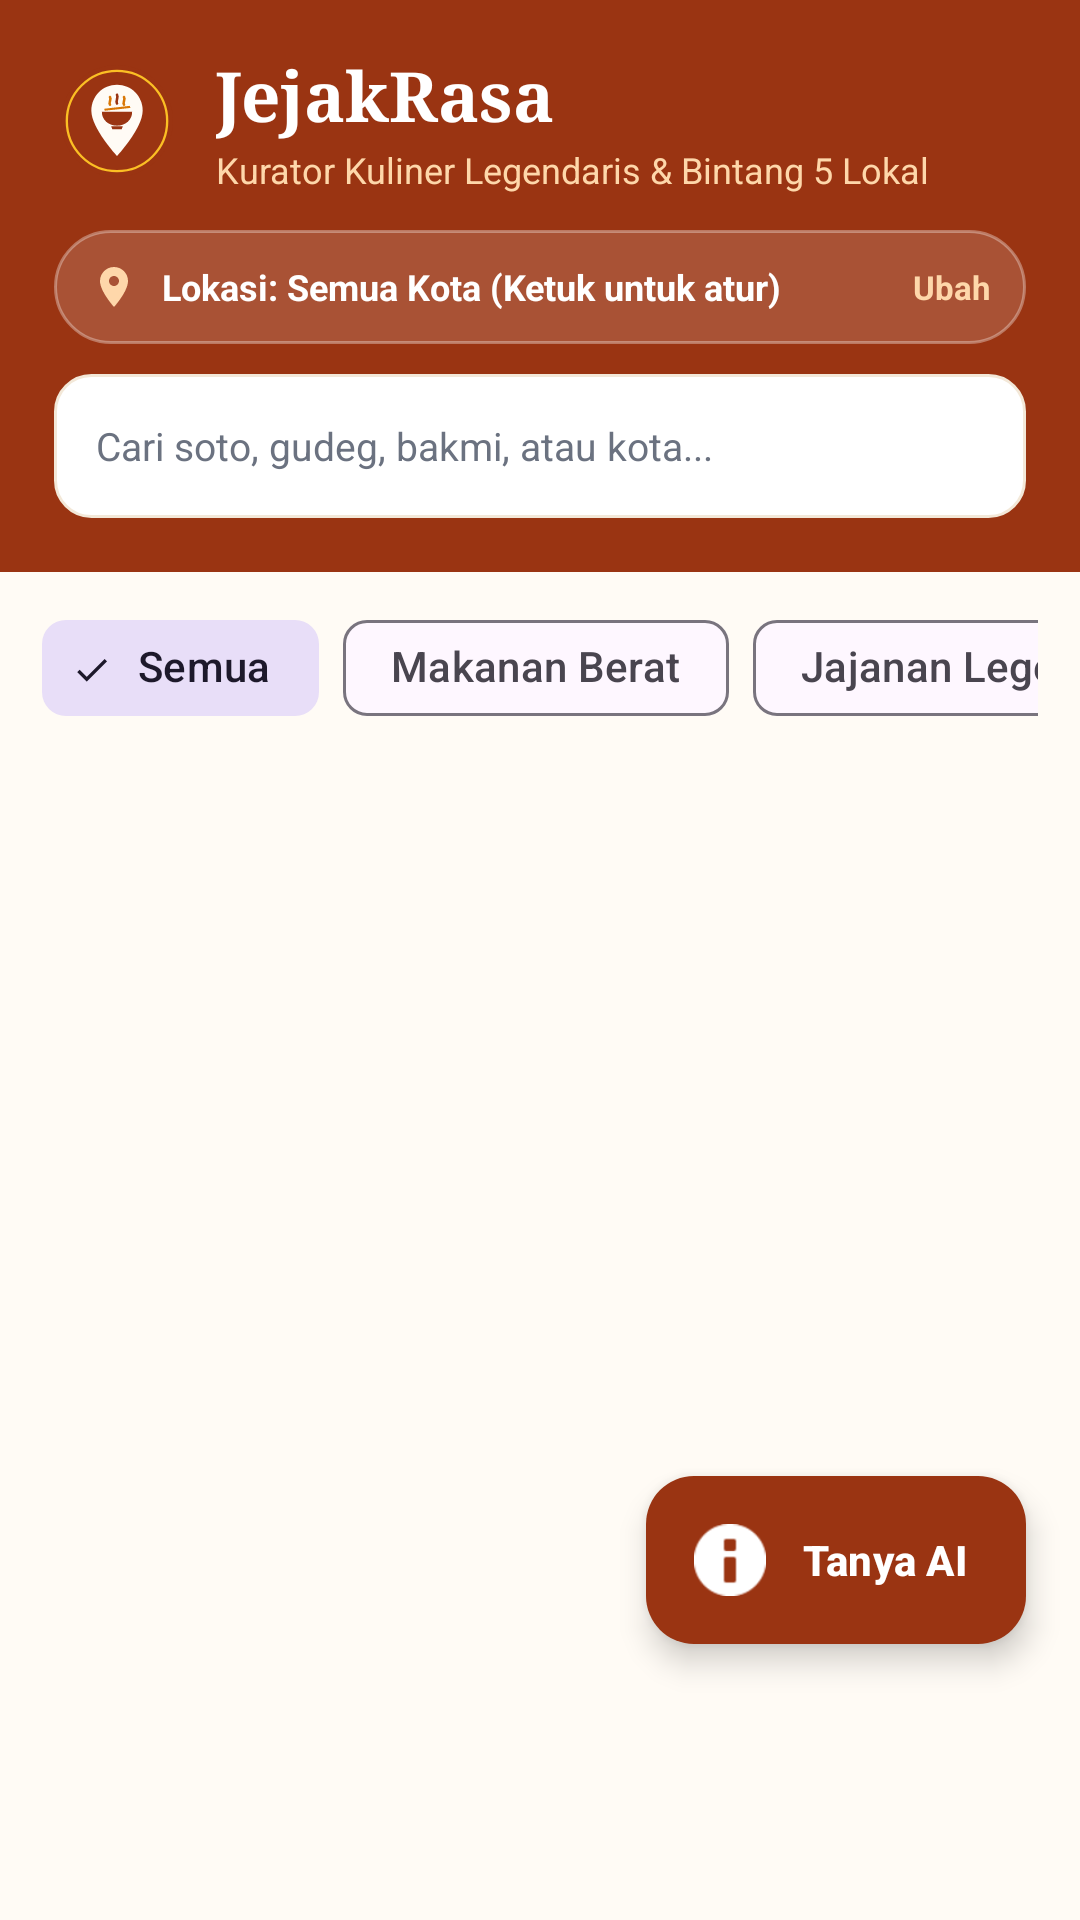

Screen size 1080×1920. Icon name, then its box in pixels as (x1, y1, x2, y2):
Ikon Lokasi: (100, 267, 128, 307)
